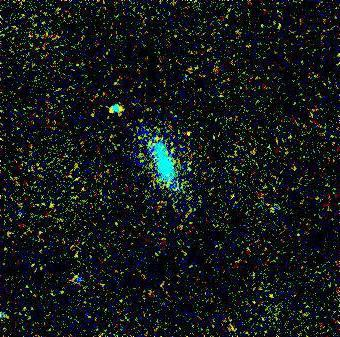star: (71, 177, 101, 207)
